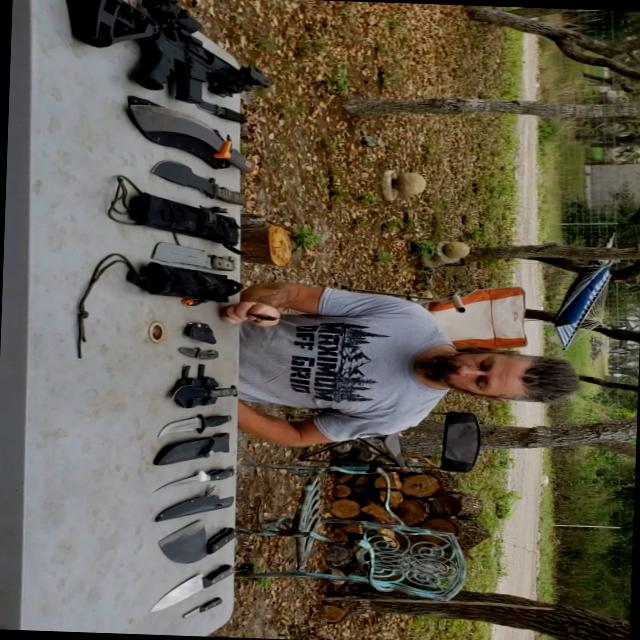knife: (121, 96, 272, 171), (144, 154, 262, 212), (142, 557, 242, 618), (137, 237, 256, 286), (148, 516, 240, 570), (154, 462, 240, 505), (154, 408, 242, 445), (170, 374, 250, 404), (187, 95, 254, 127), (176, 594, 233, 628), (168, 341, 228, 366), (238, 307, 292, 328)
long weapon: (54, 0, 275, 114)
